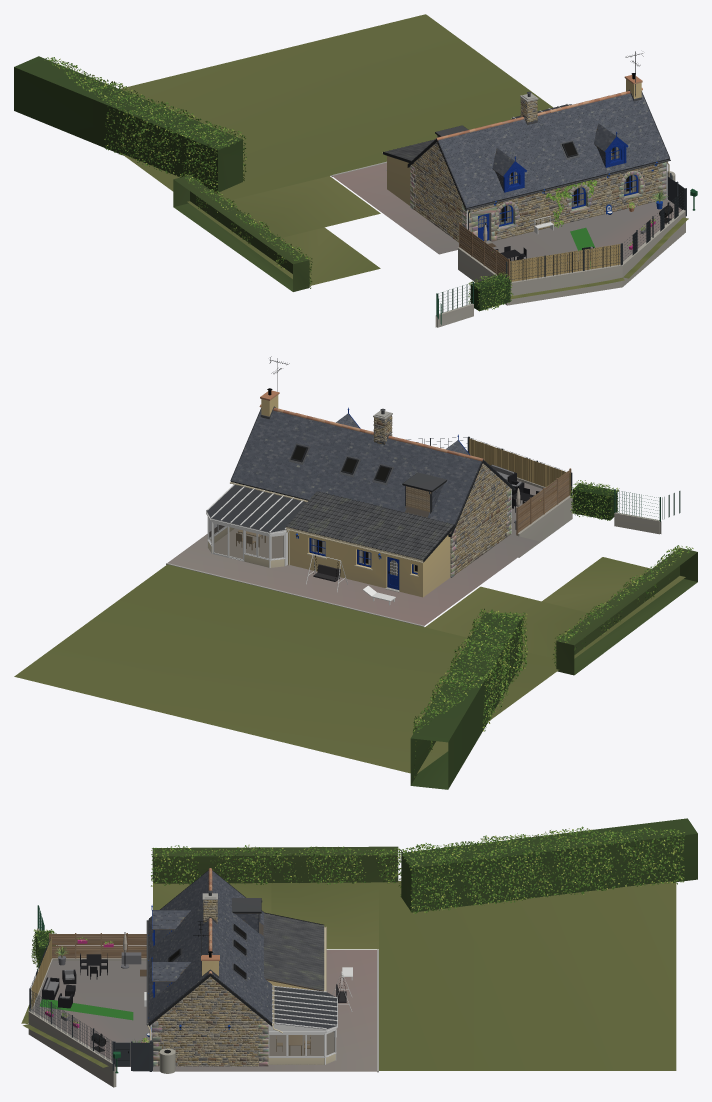
Rendered from maison.glb.
3 views of the same model, one above another, from view 1: azimuth 30°, elevation 25°; view 2: azimuth 150°, elevation 25°; view 3: azimuth 270°, elevation 25° (orthographic). The views are drawn at different scales.
Visible parts, largest first — view 1: GLB_MR_pelouse_0, GLB_MR_haie, GLB_MR_ardoises, GLB_MR_pierres, GLB_MR_pelouse_1, GLB_MR_ab_mob_sol_cour, GLB_MR_ab_cloture_muret, GLB_MR_mur_corps, GLB_MR_ab_cloture_brise_vue, GLB_MR_sol_terrasse, GLB_MR_pelouse_2, GLB_MR_ab_cloture_grillage (+11 smaller); view 2: GLB_MR_pelouse_0, GLB_MR_haie, GLB_MR_ardoises, GLB_MR_sol_terrasse, GLB_MR_ext_toit, GLB_MR_ver_structure, GLB_MR_pelouse_1, GLB_MR_ext_corps, GLB_MR_pierres, GLB_MR_pelouse_2, GLB_MR_ab_cloture_brise_vue, GLB_MR_ver_vitrages (+11 smaller); view 3: GLB_MR_pelouse_0, GLB_MR_haie, GLB_MR_ardoises, GLB_MR_ab_mob_sol_cour, GLB_MR_pierres, GLB_MR_sol_terrasse, GLB_MR_pelouse_1, GLB_MR_ver_structure, GLB_MR_ext_toit, GLB_MR_mur_corps, GLB_MR_ab_cloture_grillage, GLB_MR_ab_mobilier (+11 smaller).
Boxes of the visible parts, x1,y1,x2,y2 form: GLB_MR_pelouse_0: (121,14,552,208); GLB_MR_haie: (14,56,513,311); GLB_MR_ardoises: (411,92,669,207); GLB_MR_pierres: (411,142,662,242); GLB_MR_pelouse_1: (196,176,380,245); GLB_MR_ab_mob_sol_cour: (487,199,681,268); GLB_MR_ab_cloture_muret: (458,209,685,305); GLB_MR_mur_corps: (412,142,664,240); GLB_MR_ab_cloture_brise_vue: (459,223,620,281); GLB_MR_sol_terrasse: (333,163,458,254); GLB_MR_pelouse_2: (248,227,380,285); GLB_MR_ab_cloture_grillage: (435,173,686,327); GLB_MR_pelouse_0: (14,564,558,773); GLB_MR_haie: (410,480,697,789); GLB_MR_ardoises: (230,409,514,525); GLB_MR_sol_terrasse: (168,525,539,625); GLB_MR_ext_toit: (285,491,454,565); GLB_MR_ver_structure: (206,483,306,567); GLB_MR_pelouse_1: (425,586,624,658); GLB_MR_ext_corps: (288,531,450,597); GLB_MR_pierres: (454,463,510,574); GLB_MR_pelouse_2: (542,557,685,621); GLB_MR_ab_cloture_brise_vue: (469,438,571,535); GLB_MR_ver_vitrages: (208,517,284,560); GLB_MR_pelouse_0: (379,881,676,1070); GLB_MR_haie: (31,818,697,969); GLB_MR_ardoises: (148,870,272,1023); GLB_MR_ab_mob_sol_cour: (33,961,151,1066); GLB_MR_pierres: (156,977,265,1066); GLB_MR_sol_terrasse: (153,950,376,1071); GLB_MR_pelouse_1: (271,882,378,949); GLB_MR_ver_structure: (268,985,337,1064); GLB_MR_ext_toit: (263,912,326,991); GLB_MR_mur_corps: (154,976,266,1066); GLB_MR_ab_cloture_grillage: (29,905,153,1071); GLB_MR_ab_mobilier: (42,932,175,1073).
Bounding box in the file's own units: 30.52 × 10.78 × 41.8.
